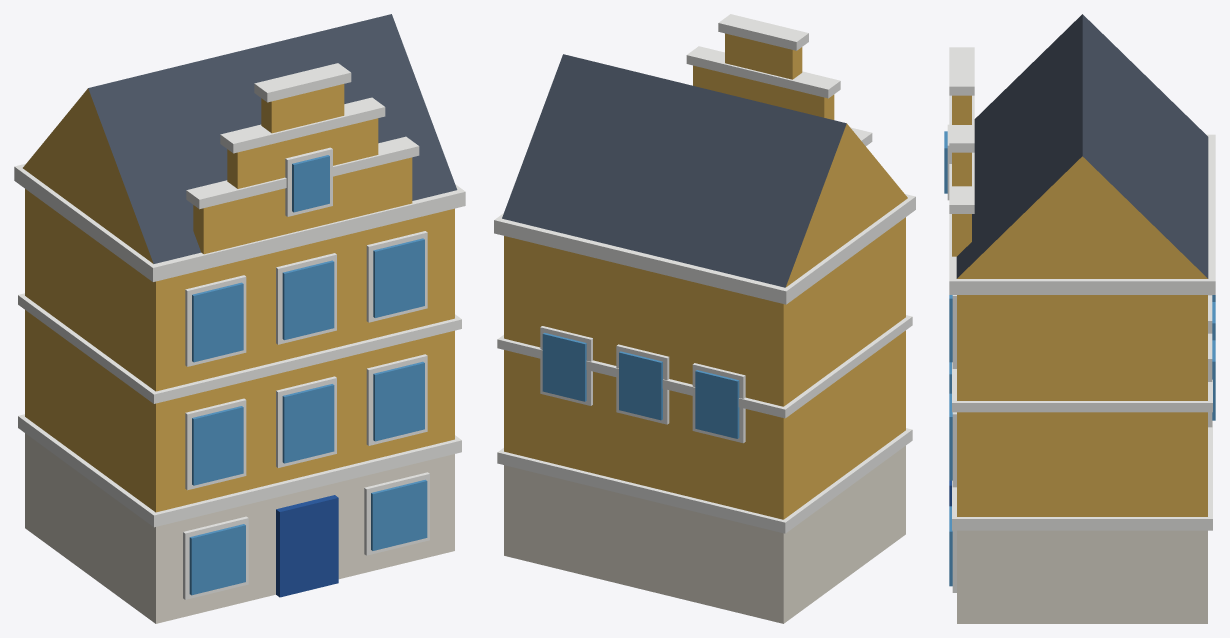
File: 52_kgd_baroque_3.obj
3 renders of one model, left to right at view 1: azimuth 30°, elevation 25°; view 2: azimuth 150°, elevation 25°; view 3: azimuth 270°, elevation 25°, orthographic. The views are drawn at different scales.
Parts seen in each view (by area): view 1: 52_kgd_baroque_3; view 2: 52_kgd_baroque_3; view 3: 52_kgd_baroque_3.
Part boxes in pixels (left/top/right/bottom): 52_kgd_baroque_3: left=14, top=14, right=465, bottom=623; 52_kgd_baroque_3: left=494, top=14, right=915, bottom=623; 52_kgd_baroque_3: left=944, top=14, right=1215, bottom=623.
Size of the model in its own units: 1.38 by 2.14 by 1.08.
